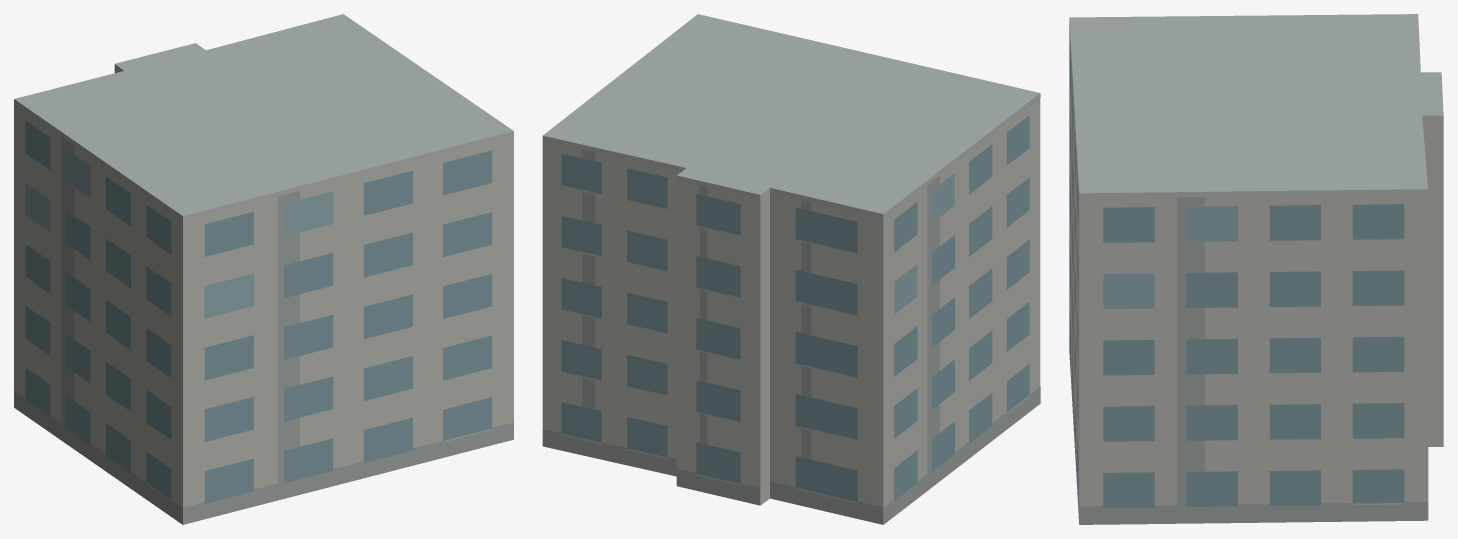
Rendered from survey-upis-32833893.glb.
3 views of the same model, side by side, from view 1: azimuth 30°, elevation 25°; view 2: azimuth 150°, elevation 25°; view 3: azimuth 270°, elevation 25° (orthographic). The views are drawn at different scales.
Visible parts, largest first — view 1: survey-upis-32833893.tmp; view 2: survey-upis-32833893.tmp; view 3: survey-upis-32833893.tmp.
Part boxes in pixels (x1=…): survey-upis-32833893.tmp: x1=14, y1=14, x2=513, y2=524; survey-upis-32833893.tmp: x1=542, y1=14, x2=1040, y2=524; survey-upis-32833893.tmp: x1=1069, y1=14, x2=1443, y2=524.
Size of the model in its own units: 18.33 by 15.8 by 16.18.
